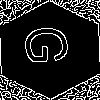G: (24, 25, 79, 65)
